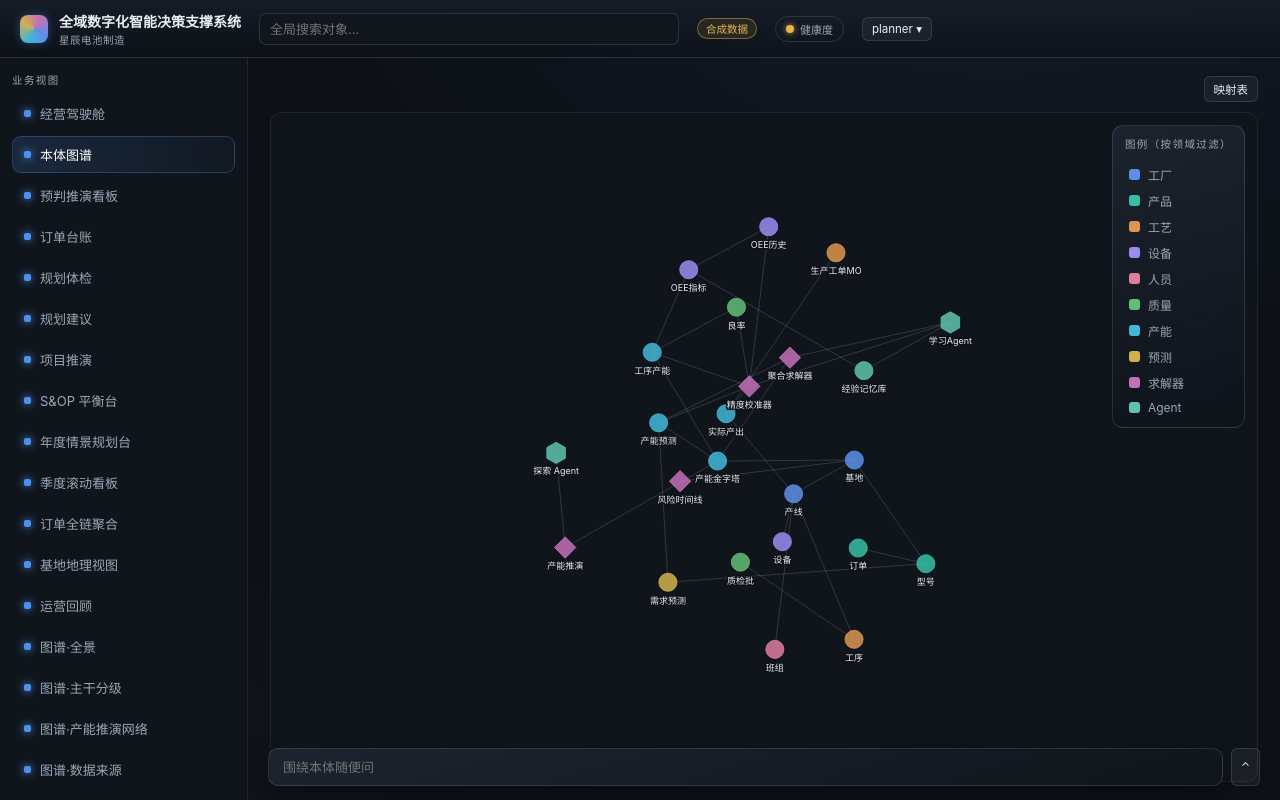
Scenario: F27 · 业务建模映射表（§7.20 图谱内功能） › 全屏弹层：按数据域分组 + 列齐全 + 规则徽章可点；行点击关闭并在图谱定位
Click the button with test id "graph-mapping-btn". click: (1231, 89)
box: [1204, 76, 1258, 102]
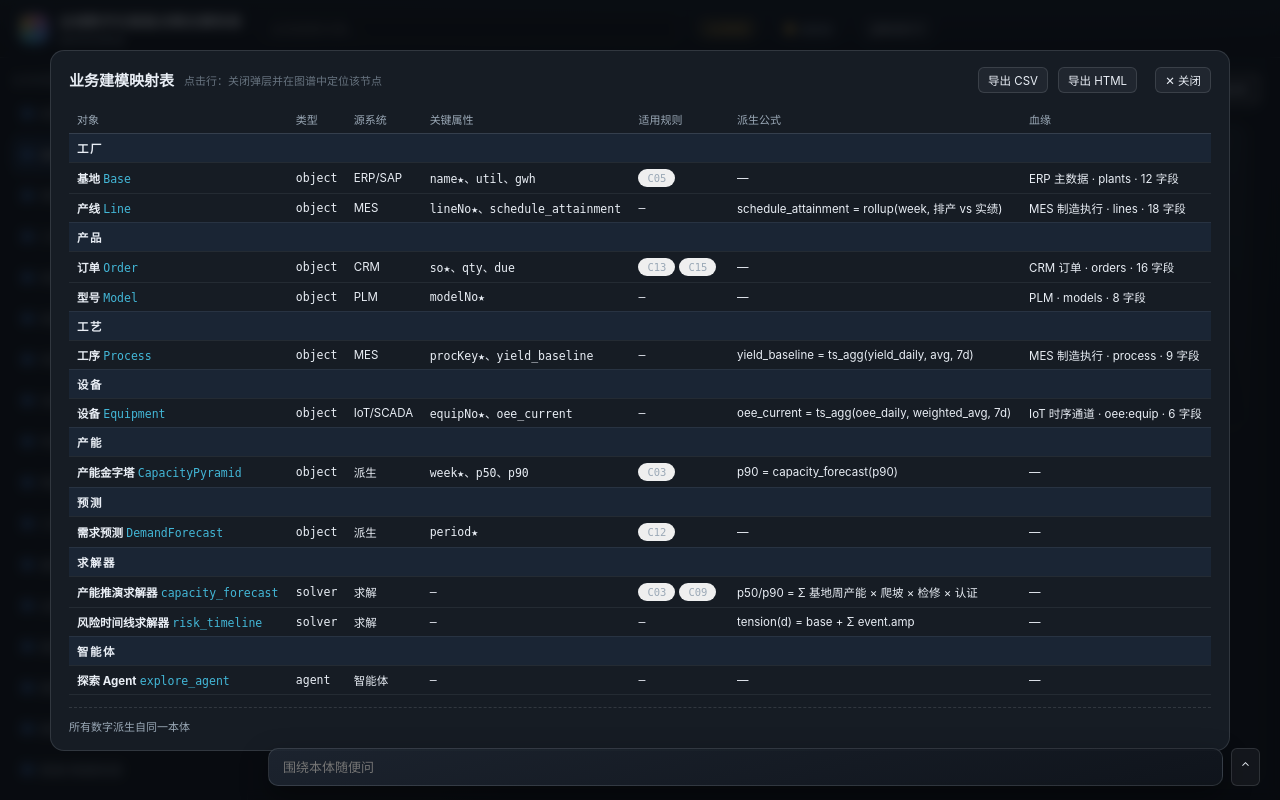
Expected: the column heading "对象" is shown, [69, 104, 288, 133]
Expected: the column heading "类型" is shown, [288, 104, 346, 133]
Expected: the column heading "源系统" is shown, [346, 104, 422, 133]
规则徽章可点开 expression
Click the button with test id "mapping-rule-Base-C05". click: (657, 178)
box: [638, 168, 676, 186]
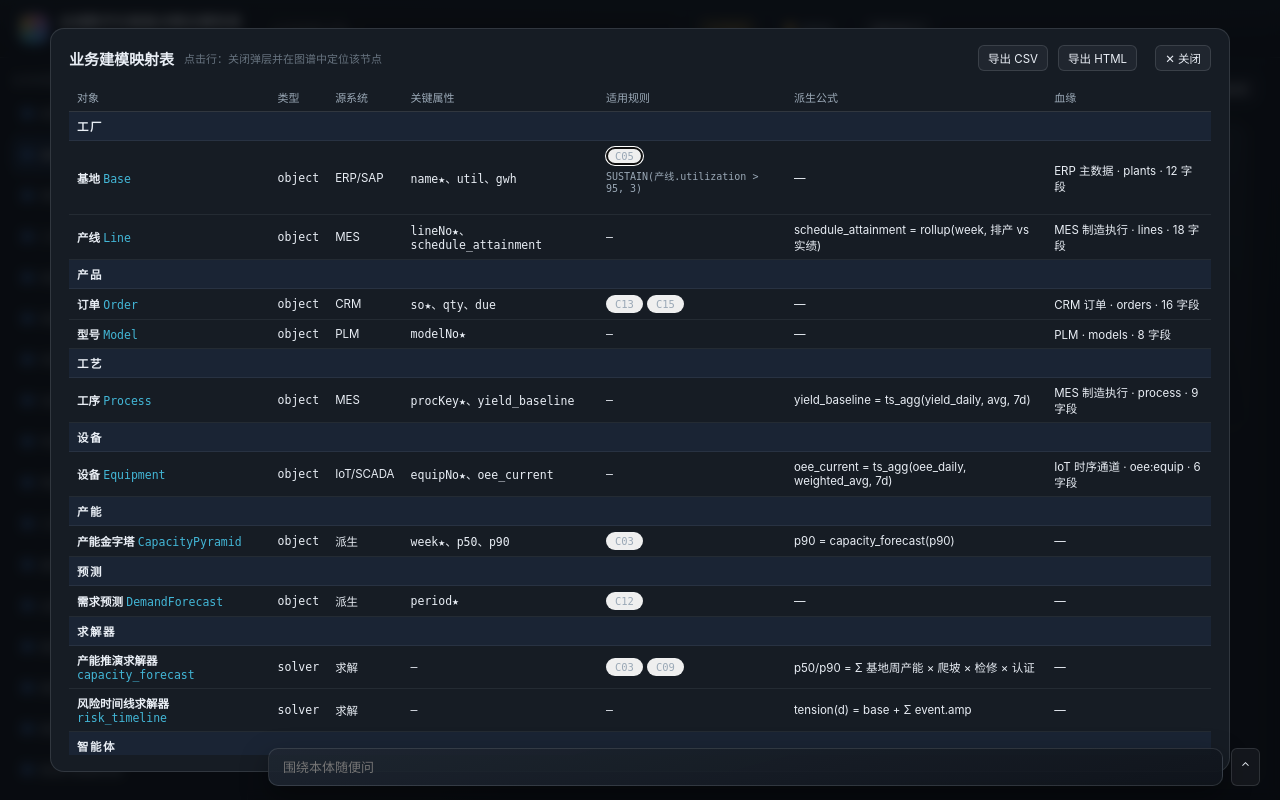
Expected: the text with test id "mapping-rule-expression" reads "SUSTAIN(产线.utilization > 95, 3)", [606, 171, 758, 194]
行点击 → 关闭弹层 + 图谱定位高亮该节点（检查器 + selectedObjects）
Click the row with test id "mapping-row-Base". click: (640, 178)
box: [69, 140, 1211, 214]
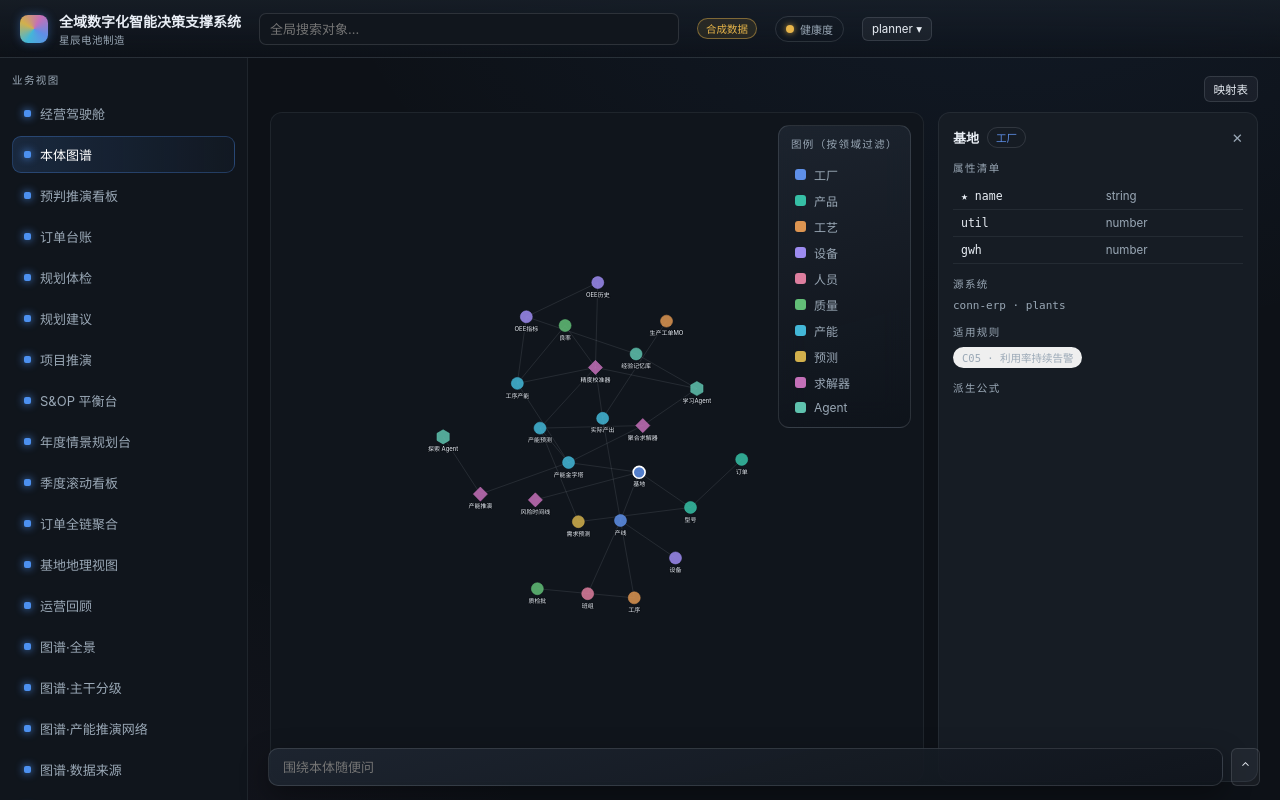
Expected: the dialog with test id "mapping-overlay" is gone
Expected: the element with test id "graph-inspector" shows "基地", [953, 130, 979, 146]
